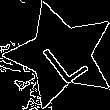L_NW: (32, 26, 89, 84)
